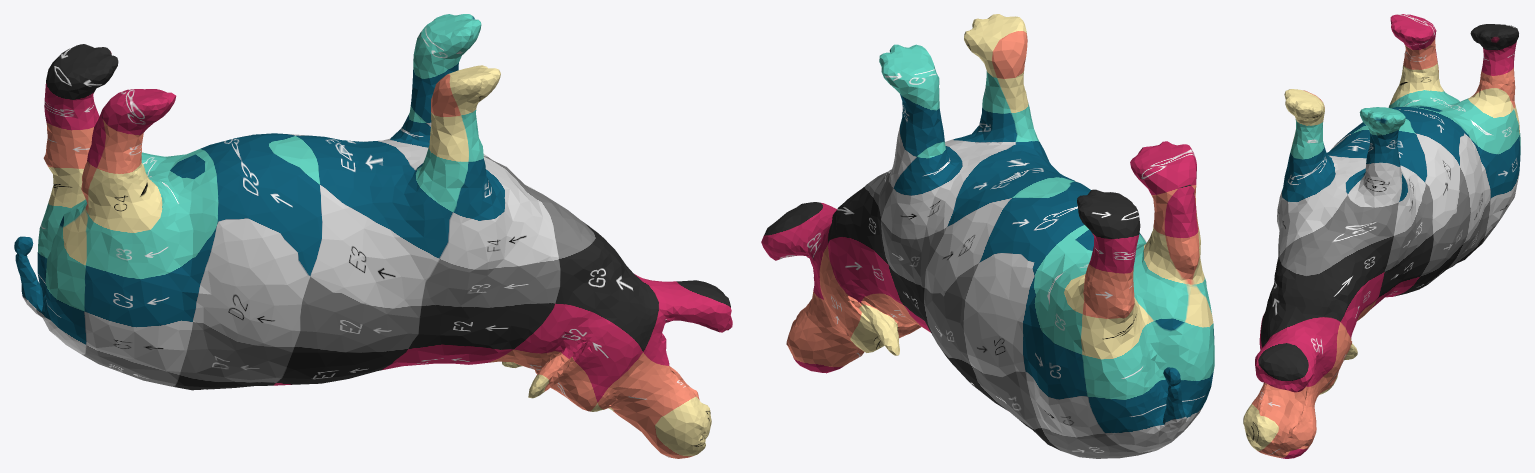
File: cougar_01-hippo_05.obj
3 renders of one model, left to right at view 1: azimuth 30°, elevation 25°; view 2: azimuth 150°, elevation 25°; view 3: azimuth 270°, elevation 25°, orthographic. The views are drawn at different scales.
Parts seen in each view (by area): view 1: cougar_01-hippo_05_export; view 2: cougar_01-hippo_05_export; view 3: cougar_01-hippo_05_export.
Boxes of the visible parts, x1,y1,x2,y2 form: cougar_01-hippo_05_export: [14, 14, 732, 458]; cougar_01-hippo_05_export: [761, 14, 1214, 458]; cougar_01-hippo_05_export: [1243, 14, 1520, 458].
Bounding box in the file's own units: 0.8678 × 0.6137 × 0.521.
